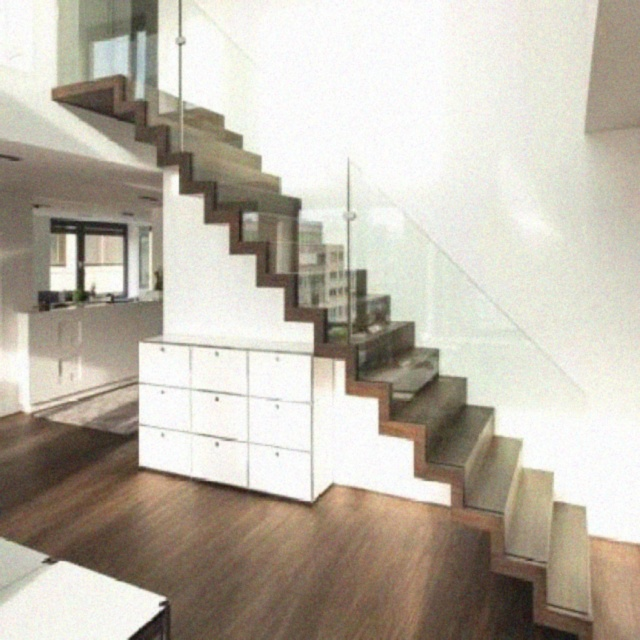stair: (50, 41, 621, 638)
